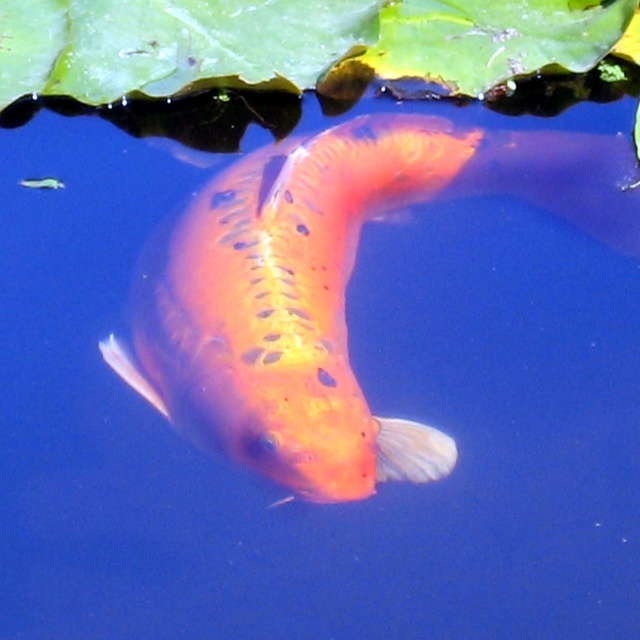Fish: (91, 109, 640, 507)
